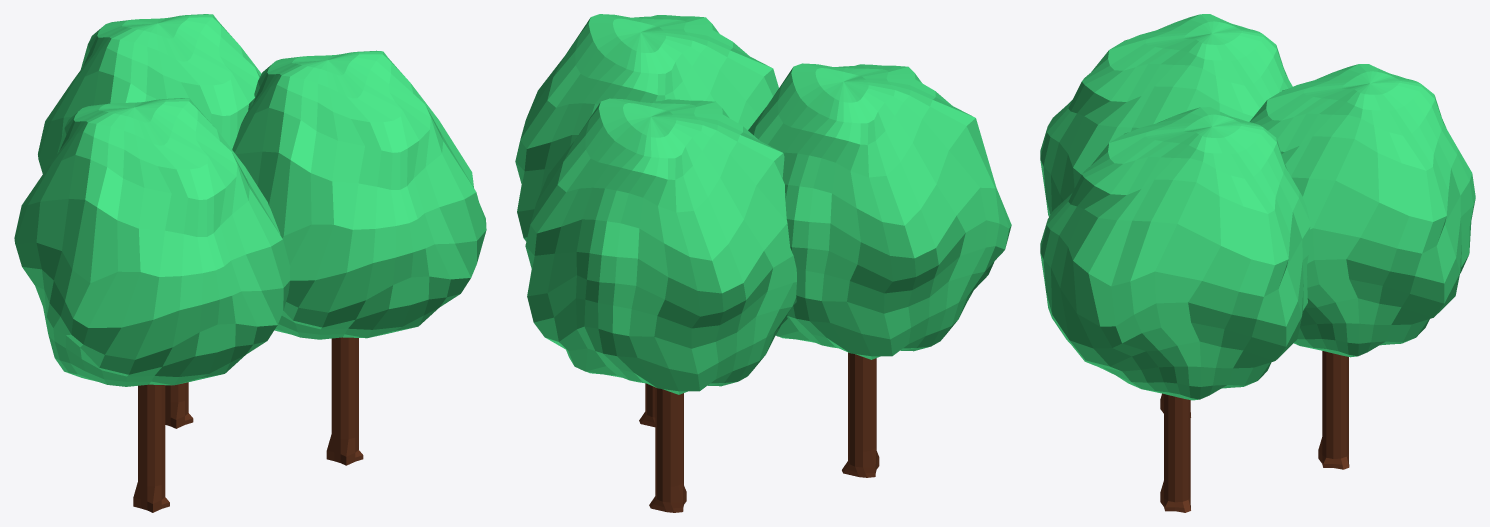
Rendered from TripleTree.glb.
The picture shows the model from 3 angles, left to right: view 1: azimuth 30°, elevation 25°; view 2: azimuth 150°, elevation 25°; view 3: azimuth 270°, elevation 25°; orthographic projection. The views are drawn at different scales.
Parts seen in each view (by area): view 1: Crown 3, Crown 1, Crown 2, Trunk3, Trunk 1, Trunk 2; view 2: Crown 2, Crown 3, Crown 1, Trunk 2, Trunk3; view 3: Crown 1, Crown 2, Crown 3, Trunk 1, Trunk 2.
Part boxes in pixels (bbox=[...]): Crown 3: bbox=[14, 98, 290, 386]; Crown 1: bbox=[232, 50, 486, 339]; Crown 2: bbox=[38, 14, 261, 173]; Trunk3: bbox=[133, 384, 169, 512]; Trunk 1: bbox=[326, 337, 363, 465]; Trunk 2: bbox=[165, 382, 193, 428]; Crown 2: bbox=[525, 98, 796, 394]; Crown 3: bbox=[748, 63, 1011, 359]; Crown 1: bbox=[515, 14, 778, 241]; Trunk 2: bbox=[649, 387, 686, 512]; Trunk3: bbox=[842, 352, 879, 477]; Crown 1: bbox=[1040, 107, 1310, 400]; Crown 2: bbox=[1249, 64, 1475, 357]; Crown 3: bbox=[1040, 14, 1292, 216]; Trunk 1: bbox=[1160, 394, 1190, 512]; Trunk 2: bbox=[1318, 351, 1349, 469].
Bounding box in the file's own units: 3.46 × 3.09 × 3.2.
